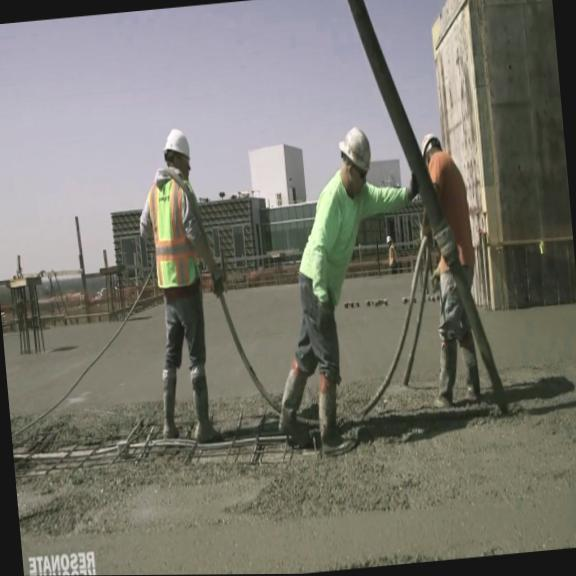safety_vest: (148, 175, 198, 290)
